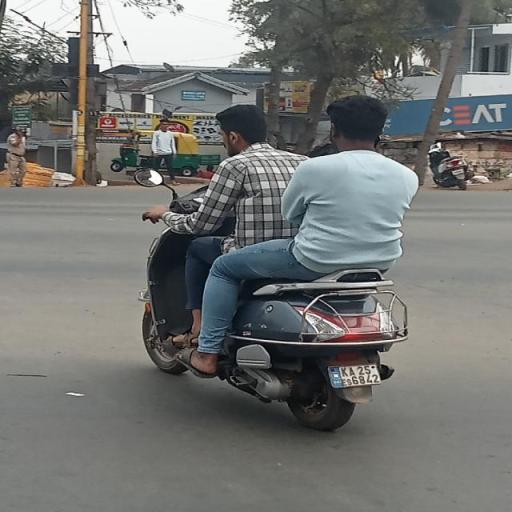bike: (130, 87, 437, 435)
numberplate: (329, 360, 385, 390)
withouthelmet: (210, 98, 266, 152), (328, 97, 384, 147)
